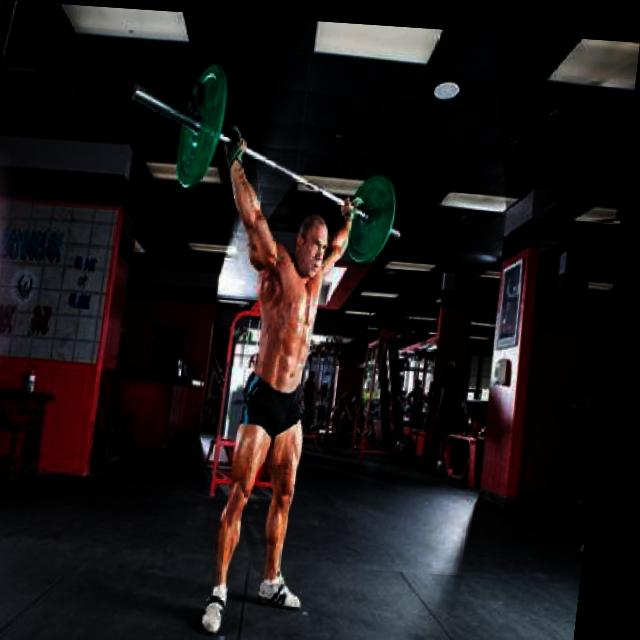barbell: (121, 53, 235, 194)
